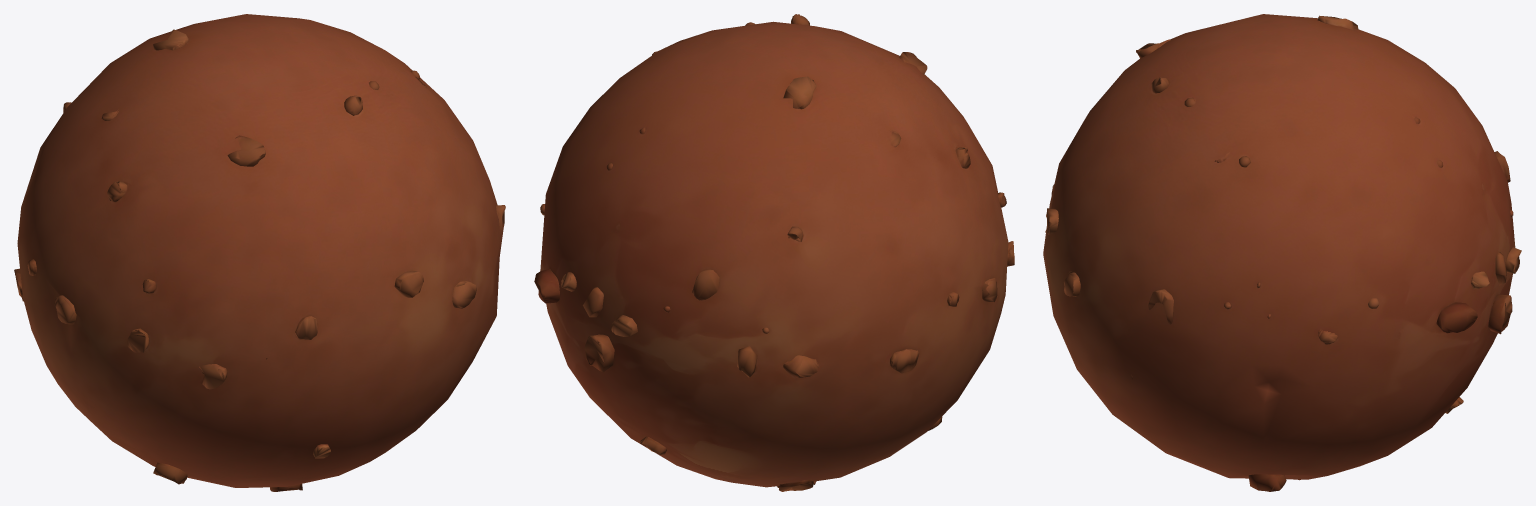
File: stylized-mars.glb
3 renders of one model, left to right at view 1: azimuth 30°, elevation 25°; view 2: azimuth 150°, elevation 25°; view 3: azimuth 270°, elevation 25°, orthographic. The views are drawn at different scales.
Parts seen in each view (by area): view 1: tripo_node_7887f652-b91f-4a79-8bf1-4ccfe693c319; view 2: tripo_node_7887f652-b91f-4a79-8bf1-4ccfe693c319; view 3: tripo_node_7887f652-b91f-4a79-8bf1-4ccfe693c319.
Part boxes in pixels (x1=…): tripo_node_7887f652-b91f-4a79-8bf1-4ccfe693c319: x1=14, y1=14, x2=505, y2=491; tripo_node_7887f652-b91f-4a79-8bf1-4ccfe693c319: x1=534, y1=14, x2=1014, y2=491; tripo_node_7887f652-b91f-4a79-8bf1-4ccfe693c319: x1=1043, y1=14, x2=1521, y2=491.
Bounding box in the file's own units: 0.998 × 0.9746 × 0.998.
Materials: 1 (1 with a texture image).
